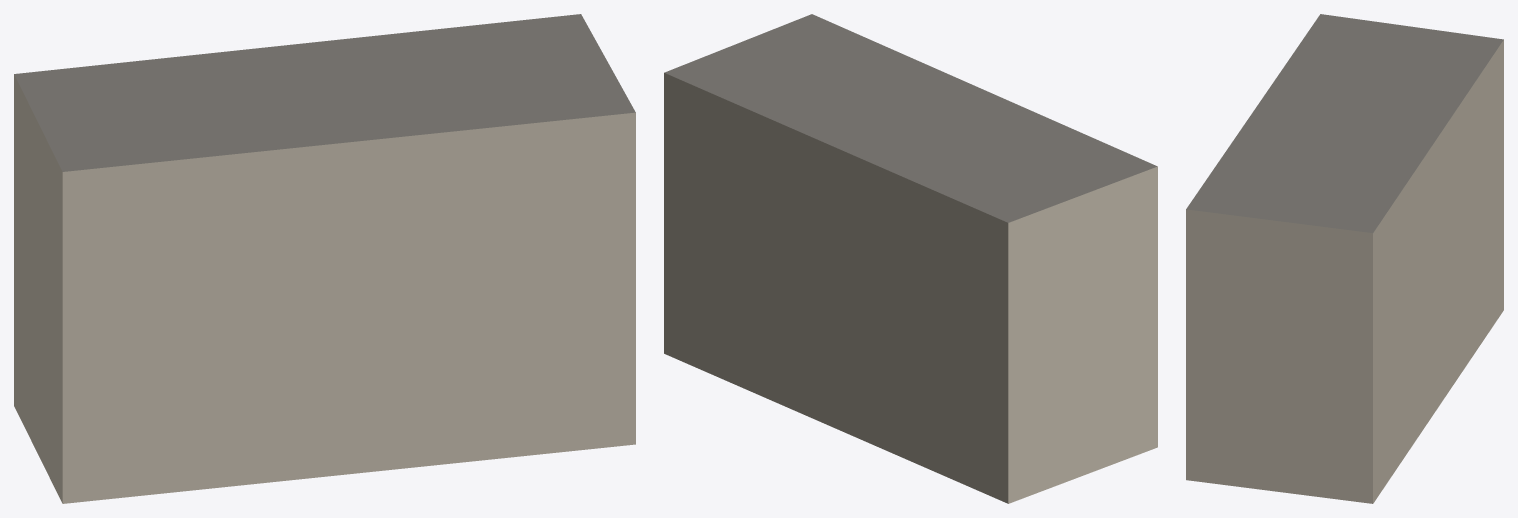
3 views of the same model, side by side, from view 1: azimuth 30°, elevation 25°; view 2: azimuth 150°, elevation 25°; view 3: azimuth 270°, elevation 25° (orthographic). The views are drawn at different scales.
Visible parts, largest first — view 1: HP-w505643543; view 2: HP-w505643543; view 3: HP-w505643543.
Part boxes in pixels (<box>): HP-w505643543: <box>14,14,635,503</box>; HP-w505643543: <box>664,14,1157,503</box>; HP-w505643543: <box>1186,14,1503,503</box>.
Bounding box in the file's own units: 20.84 × 12 × 12.77.
